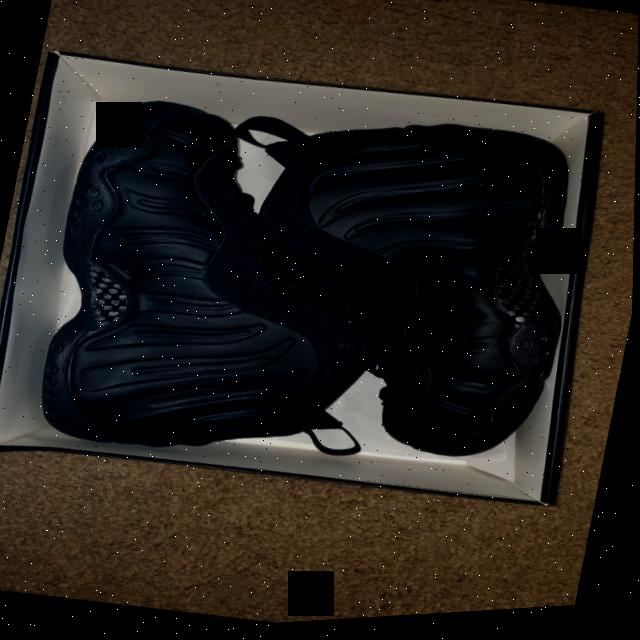shoes: (1, 64, 419, 494), (219, 89, 638, 504)
